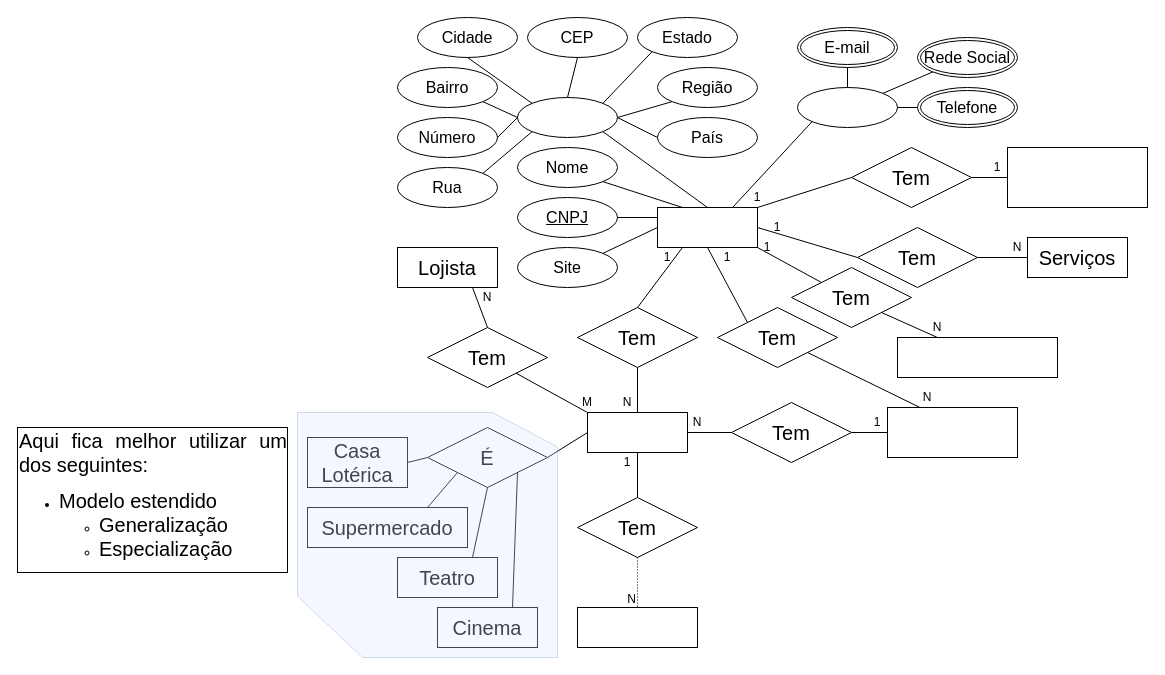
Some shapes in this 1165 by 675 pixel diagram are drawn without their labels. The shapes that lost their labels are listed below. From the top down, each one's centre as x and y in pixels, then its label:
At [567,117]: "Endereço".
At [847,107]: "Contatos".
At [1077,177]: "Conselho Administrativo".
At [707,227]: "Shopping".
At [977,357]: "Estacionamento".
At [637,432]: "Loja".
At [952,432]: "Praça Alimentação".
At [637,627]: "Subunidade".
